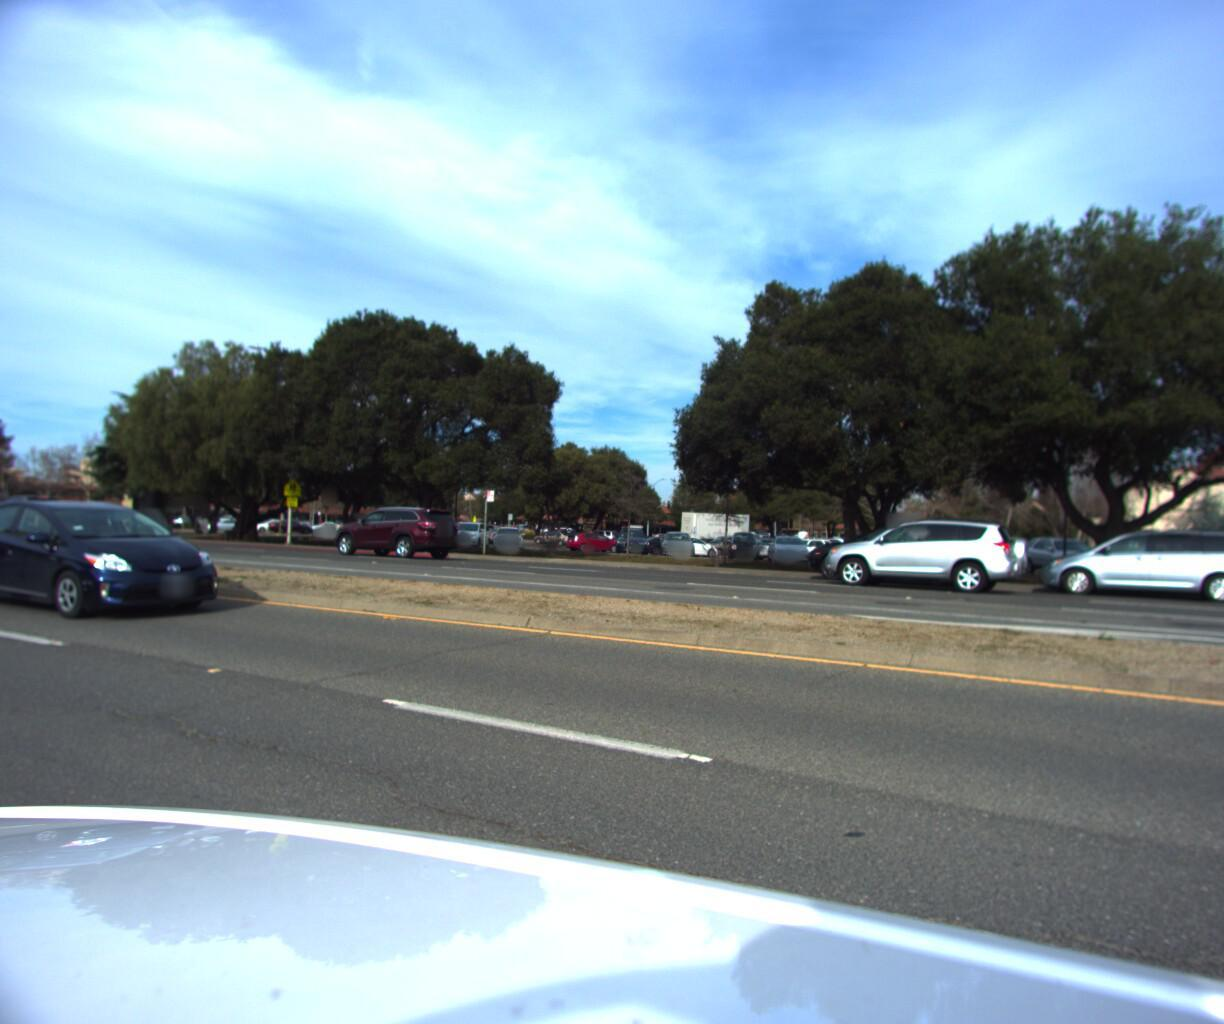bus: (0, 475, 11, 540)
car: (0, 496, 237, 626), (808, 513, 1036, 595), (1025, 519, 1224, 608), (792, 521, 990, 591), (326, 507, 470, 563), (0, 498, 88, 546), (0, 496, 7, 541)
